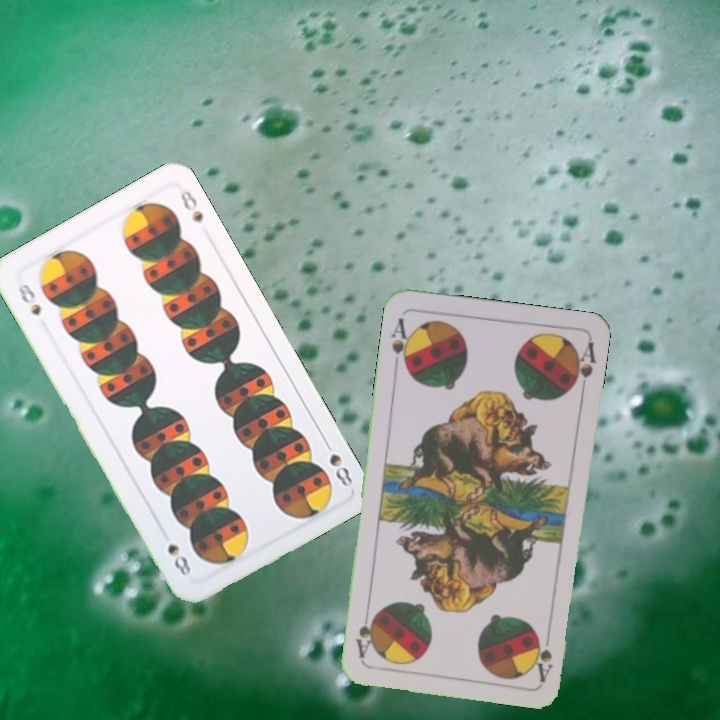S8: (319, 435, 355, 490), (14, 279, 44, 318)
SA: (387, 313, 415, 373), (531, 624, 556, 683)
